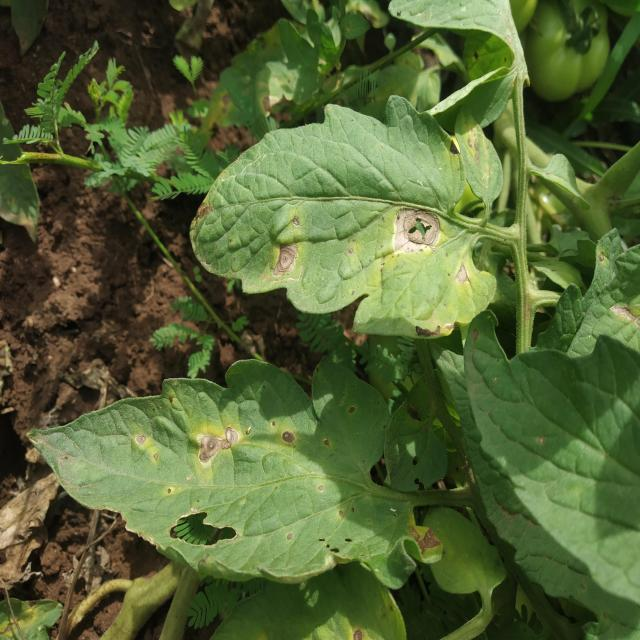Early Blight: (358, 198, 586, 598), (90, 140, 342, 451)
